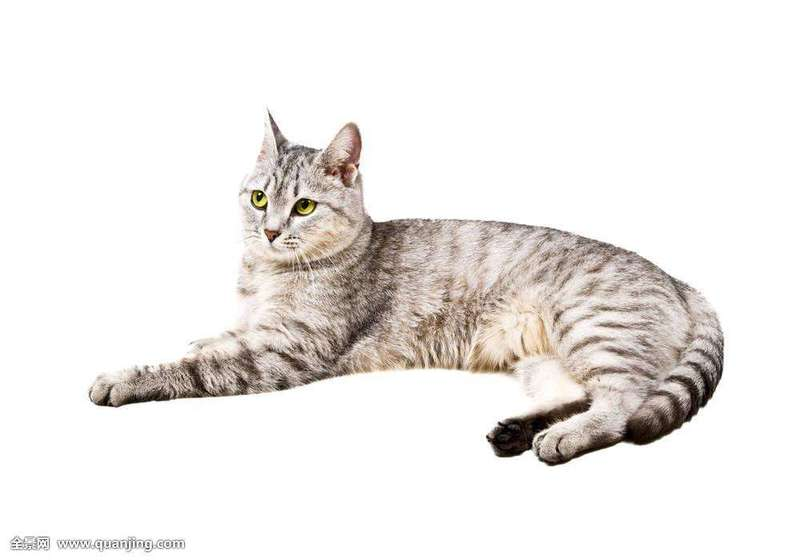cat: (202, 103, 405, 295)
